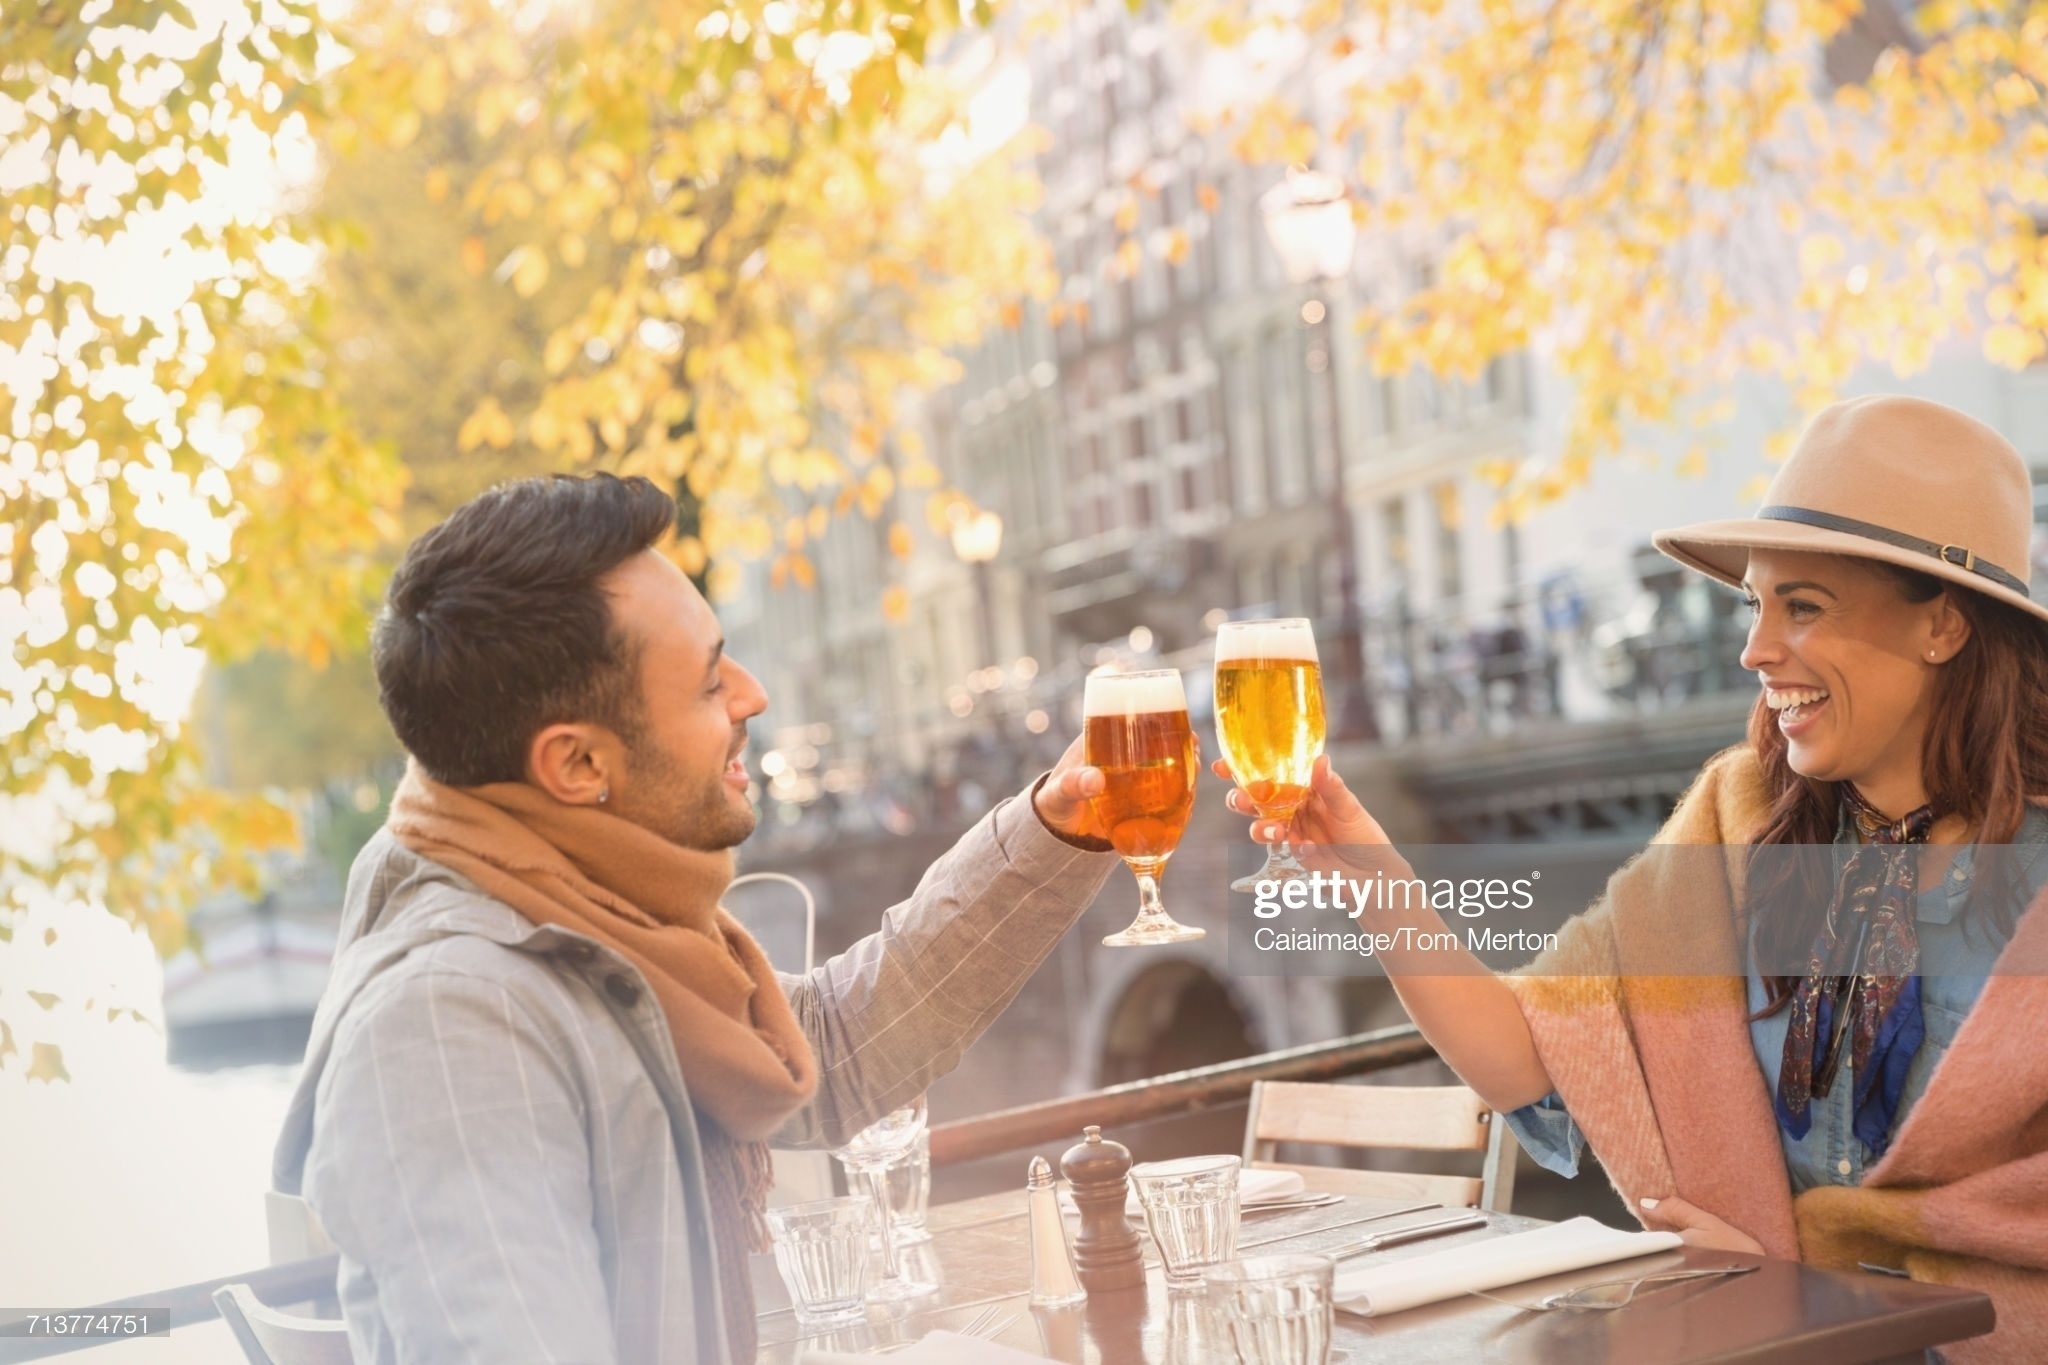whiskey: (1209, 606, 1332, 894), (1089, 654, 1207, 948)
